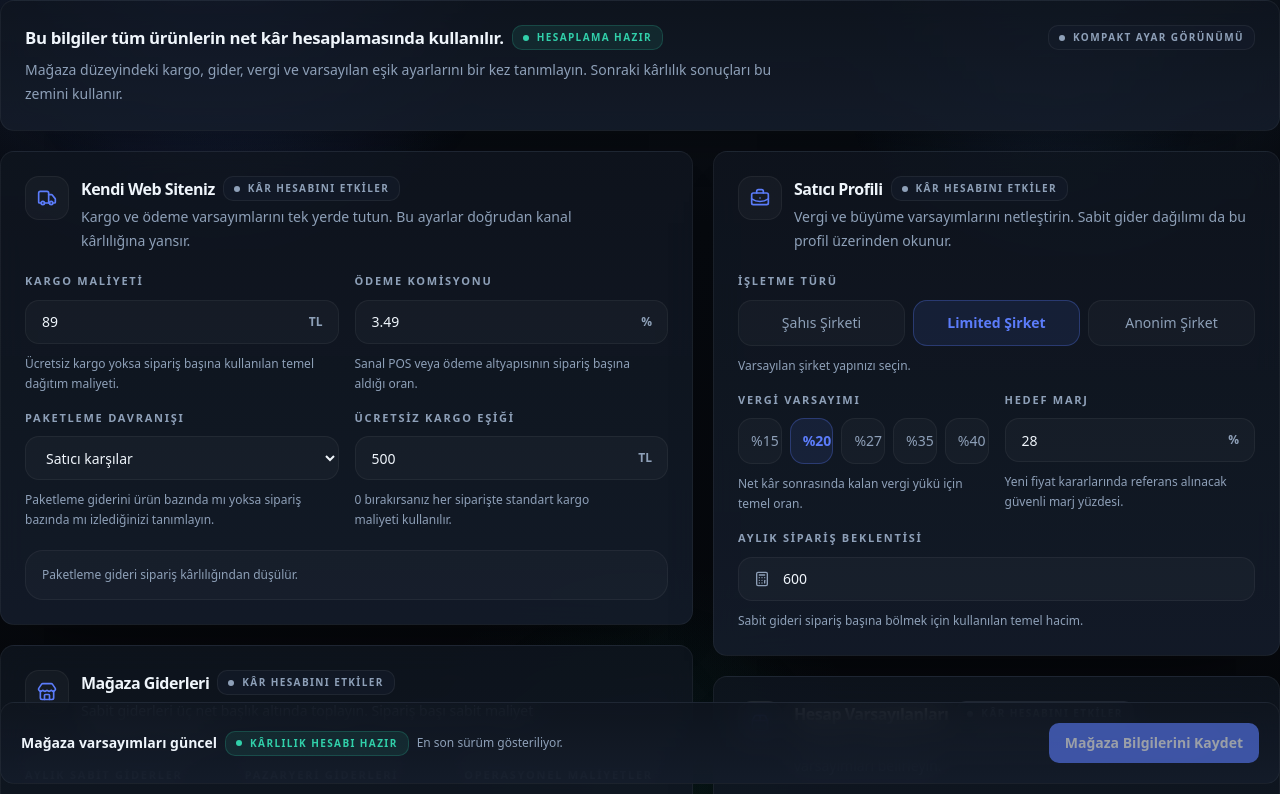
Test: StoreSettingsSection › shows inline validation and warning feedback when a required assumption is cleared
Clear the number field named "Kargo Maliyeti": (182, 322) [25,300,338,344]
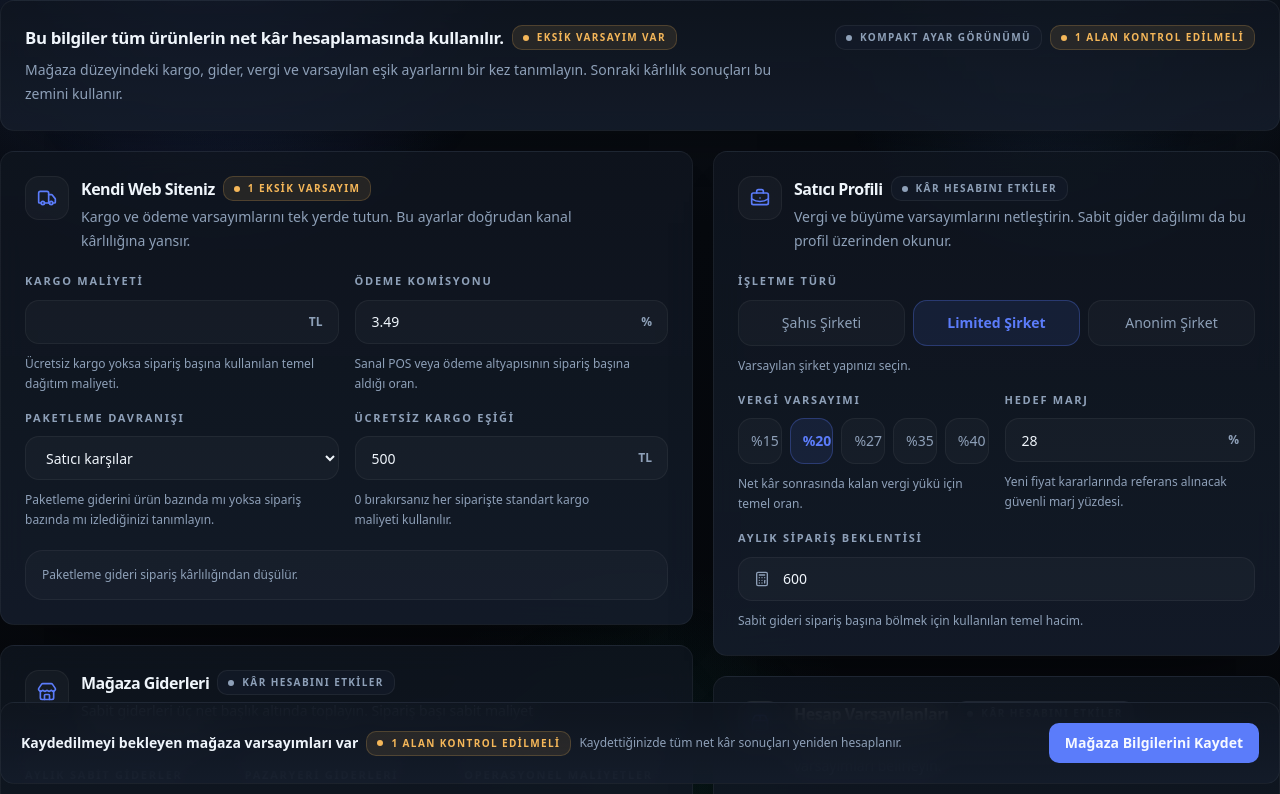
Click the button "Mağaza Bilgilerini Kaydet": (1154, 743) [1049,723,1259,763]
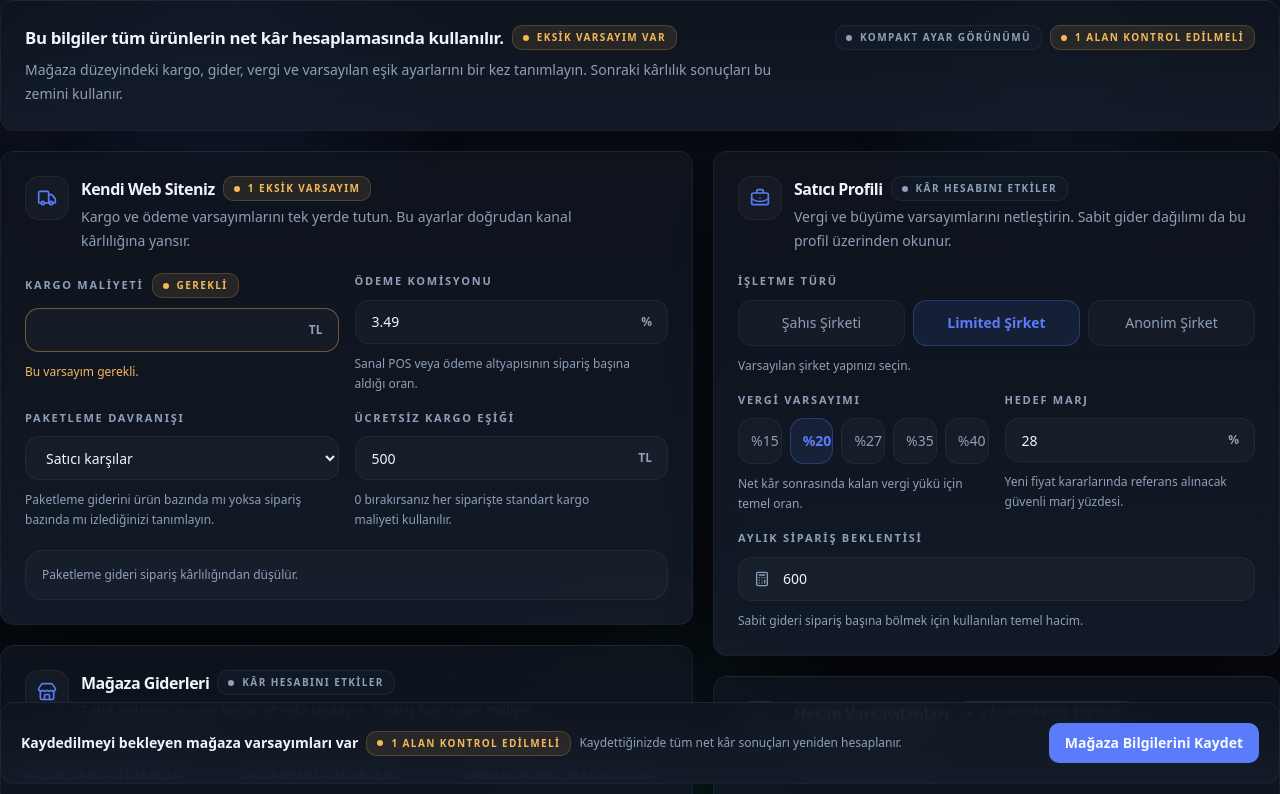
Expected: the text "Bu varsayım gerekli." is shown, [25,363,139,380]
